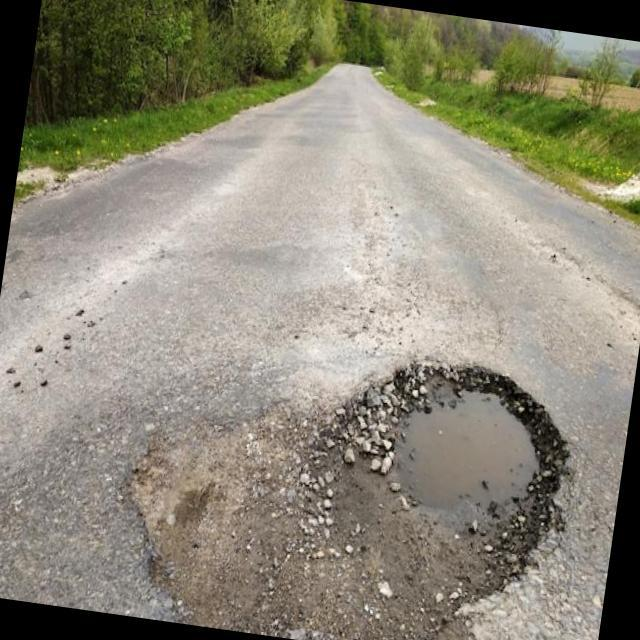Burst: (130, 351, 570, 640)
